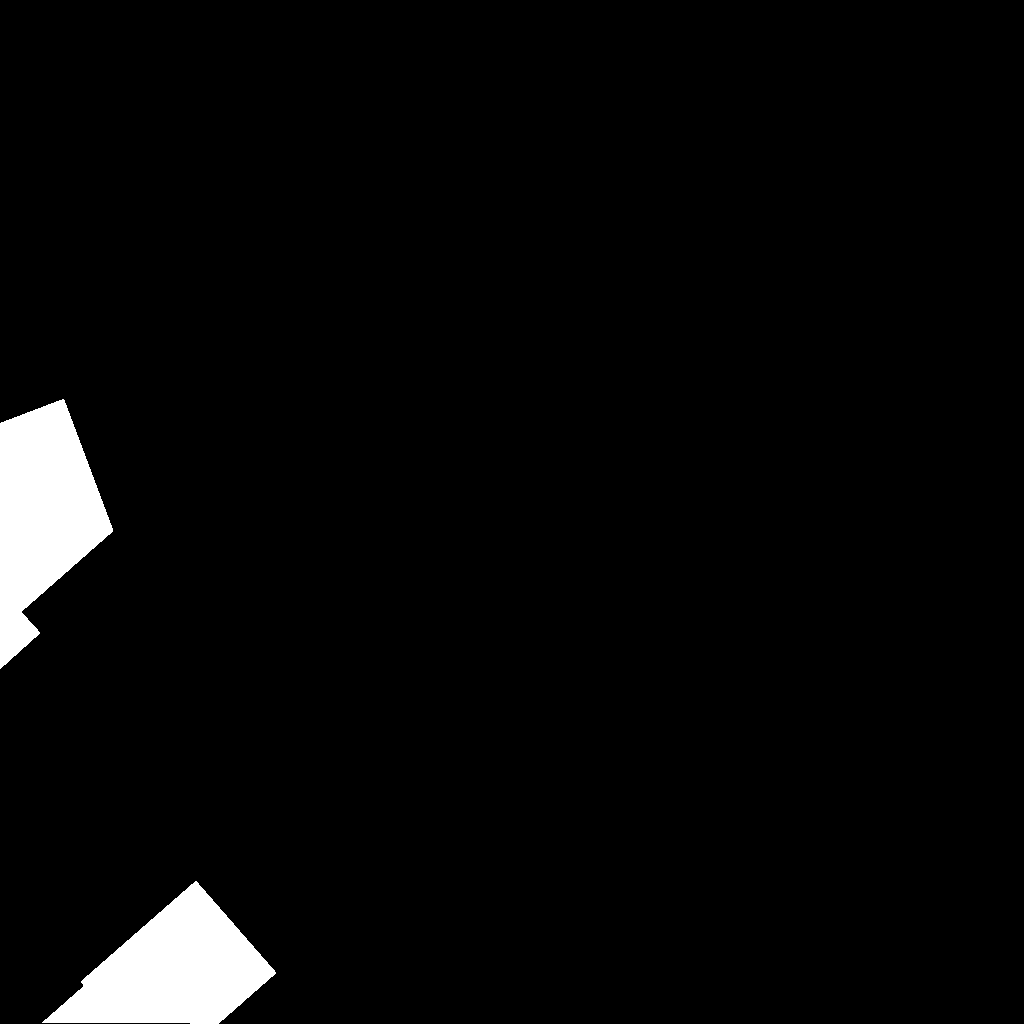building: (42, 881, 277, 1024), (0, 399, 114, 670)
